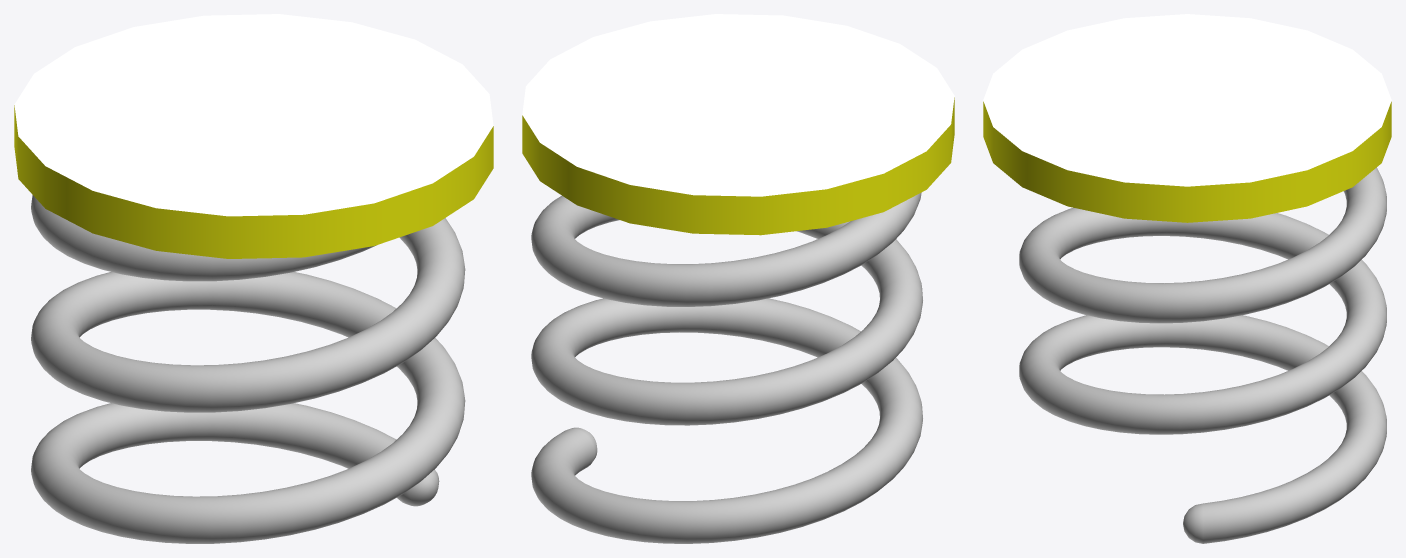
File: spring_NO_Arrow_03.glb
3 renders of one model, left to right at view 1: azimuth 30°, elevation 25°; view 2: azimuth 150°, elevation 25°; view 3: azimuth 270°, elevation 25°, orthographic. The views are drawn at different scales.
Parts seen in each view (by area): view 1: pCylinder83, polySurface2; view 2: pCylinder83, polySurface2; view 3: pCylinder83, polySurface2.
Part boxes in pixels (x1,y1,x2,y2): pCylinder83: (14,14,493,258); polySurface2: (31,195,465,543); pCylinder83: (522,14,954,235); polySurface2: (531,192,922,543); pCylinder83: (983,14,1391,222); polySurface2: (1019,167,1386,543).
Size of the model in its own units: 0.2529 by 0.2534 by 0.2529.
